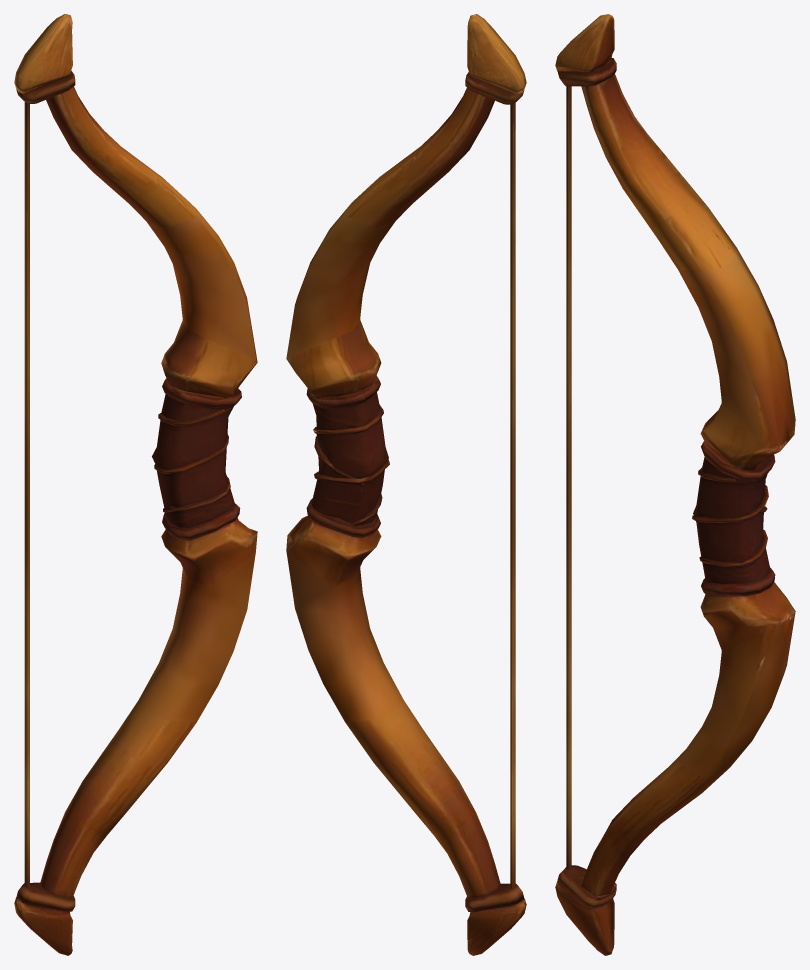
File: bow_wynd_mid.glb
3 renders of one model, left to right at view 1: azimuth 30°, elevation 25°; view 2: azimuth 150°, elevation 25°; view 3: azimuth 330°, elevation 25°, orthographic.
Parts seen in each view (by area): view 1: tripo_node_1c3814b1-62b4-4dd5-9041-0118577f60f9; view 2: tripo_node_1c3814b1-62b4-4dd5-9041-0118577f60f9; view 3: tripo_node_1c3814b1-62b4-4dd5-9041-0118577f60f9.
Boxes of the visible parts, bbox=[...] form: tripo_node_1c3814b1-62b4-4dd5-9041-0118577f60f9: bbox=[14, 14, 257, 955]; tripo_node_1c3814b1-62b4-4dd5-9041-0118577f60f9: bbox=[286, 14, 526, 955]; tripo_node_1c3814b1-62b4-4dd5-9041-0118577f60f9: bbox=[555, 14, 795, 955].
Size of the model in its own units: 0.463 by 1.8 by 0.1415.
1 material, 1 textured.
